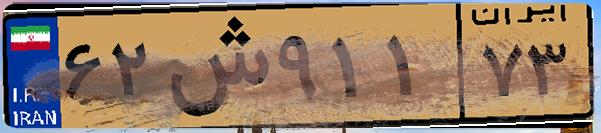1: (385, 28, 445, 110), (330, 28, 385, 110)
2: (110, 28, 158, 98)
3: (525, 38, 570, 115)
6: (57, 26, 110, 100)
7: (475, 38, 525, 113)
9: (270, 28, 330, 110)
ش: (158, 12, 270, 120)
